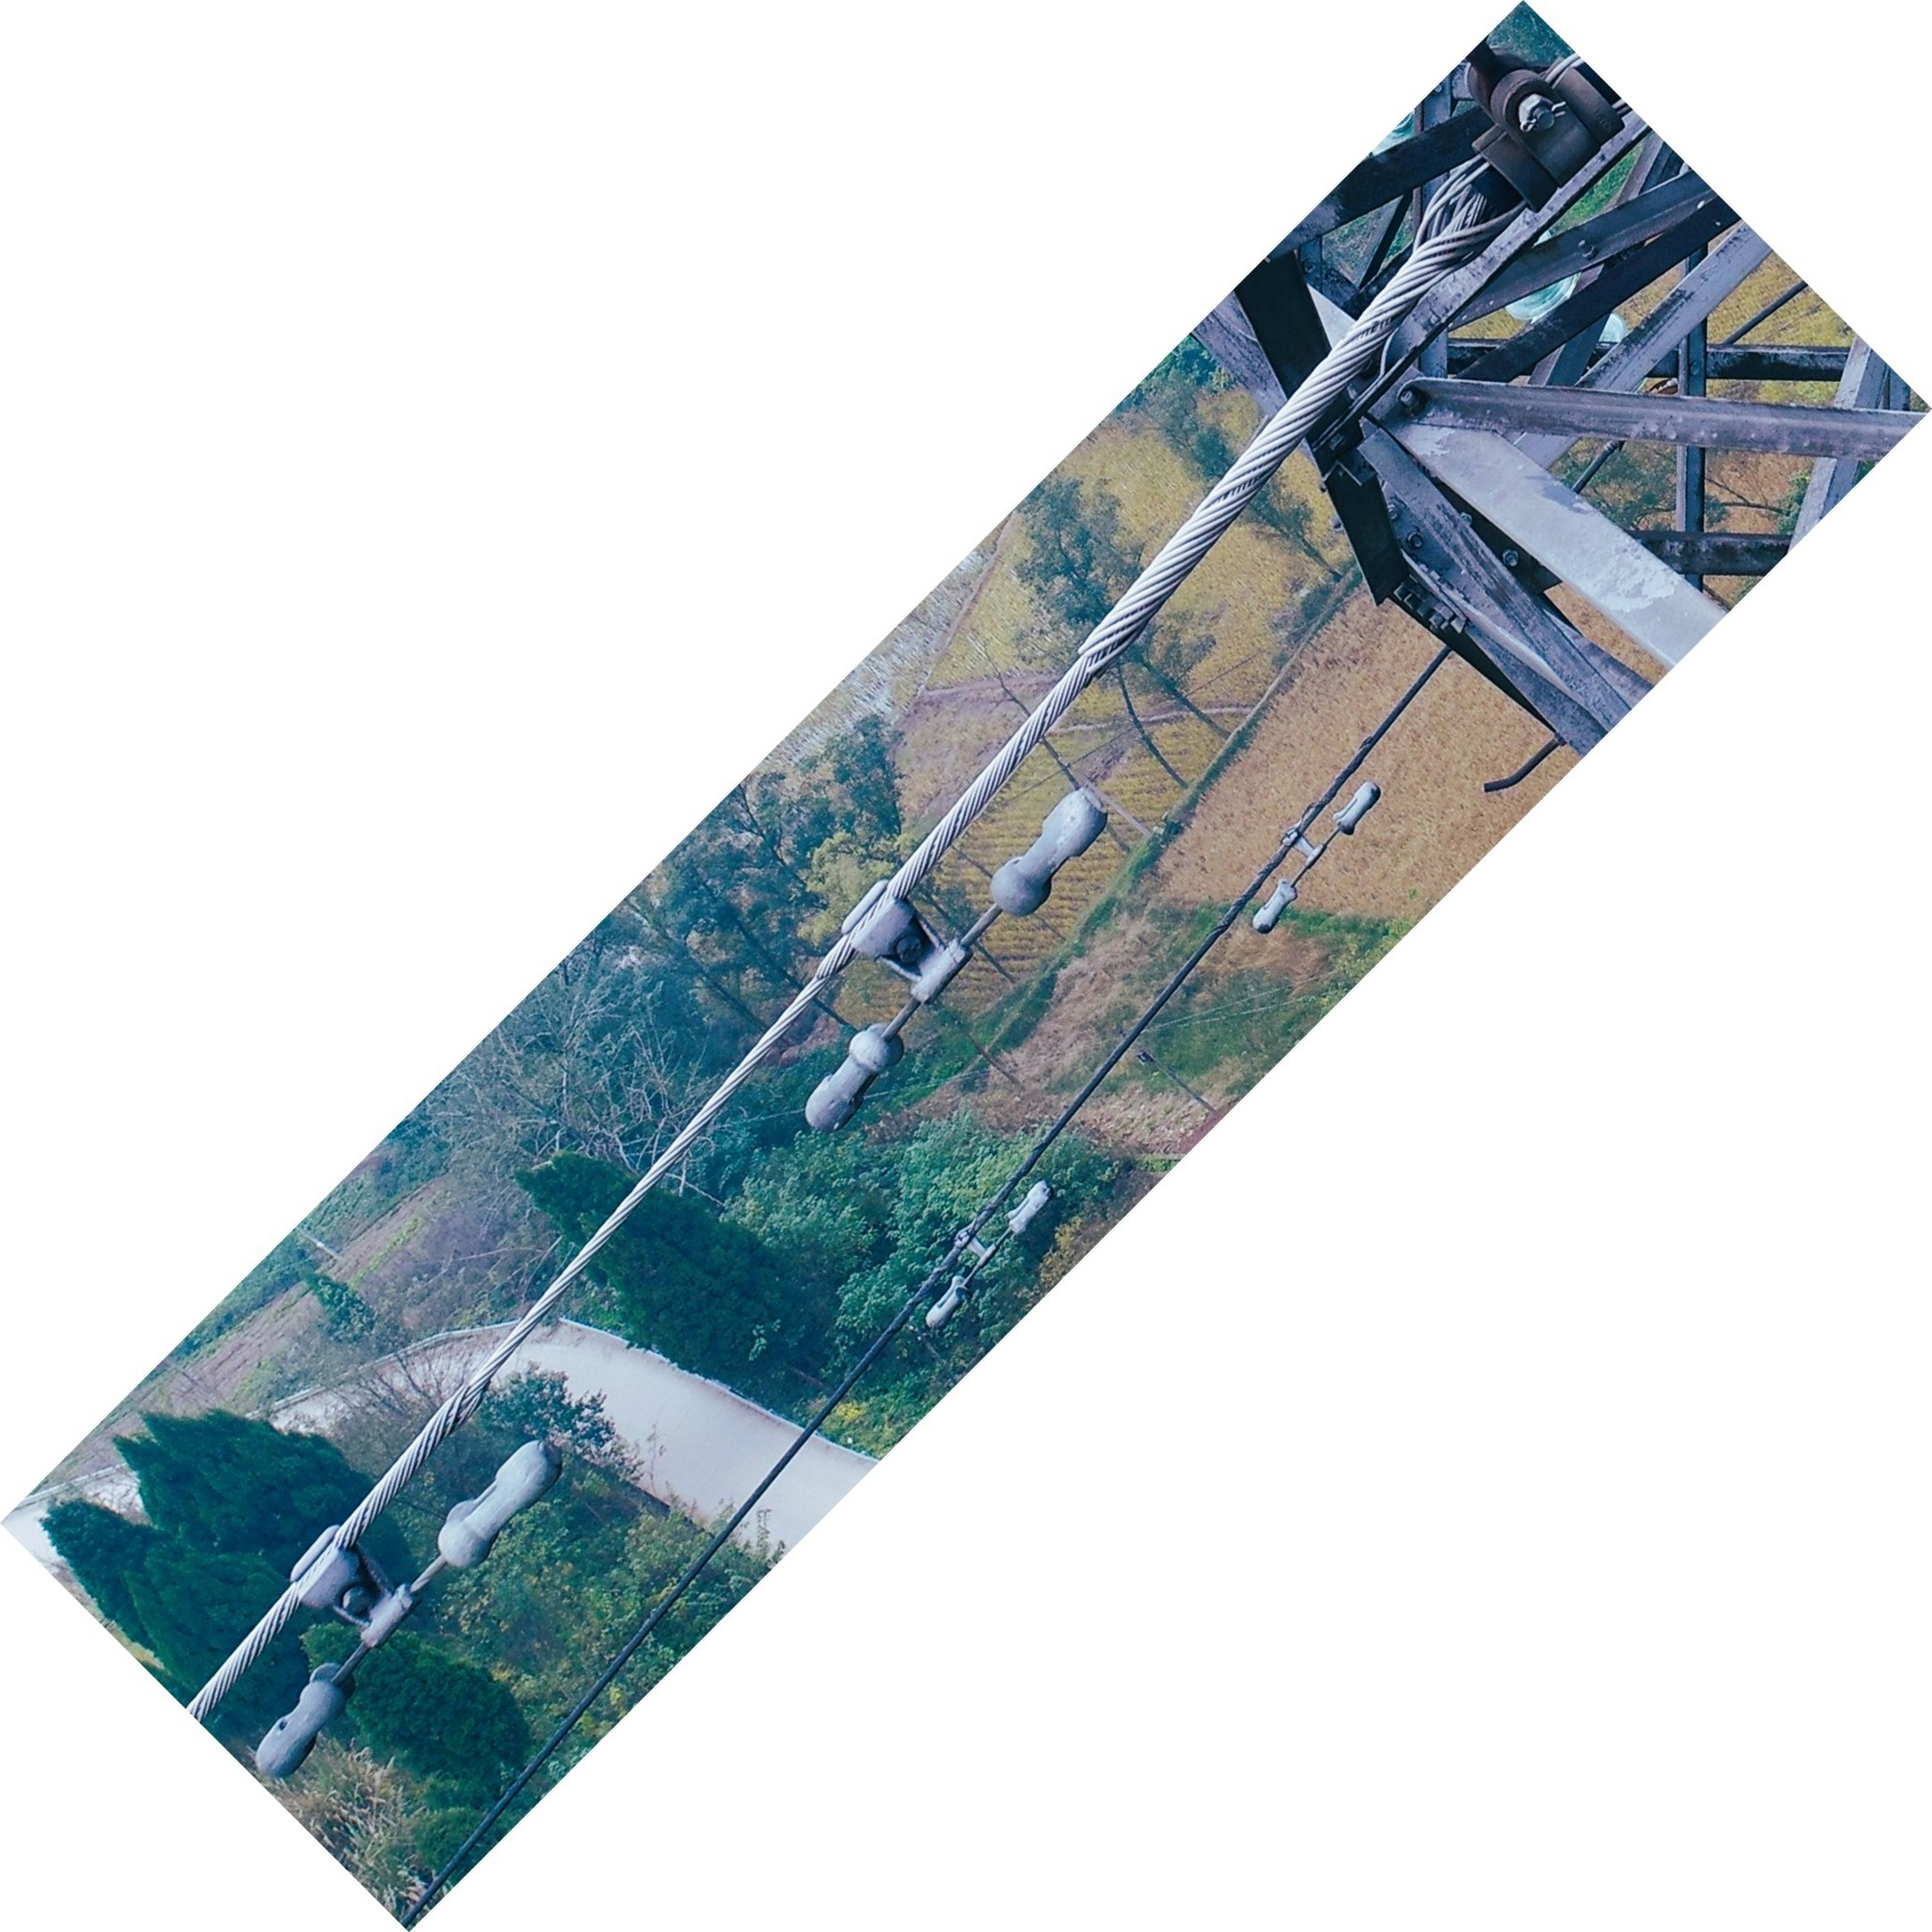Shockproof hammer: (218, 1380, 575, 1805), (780, 764, 1115, 1164)
